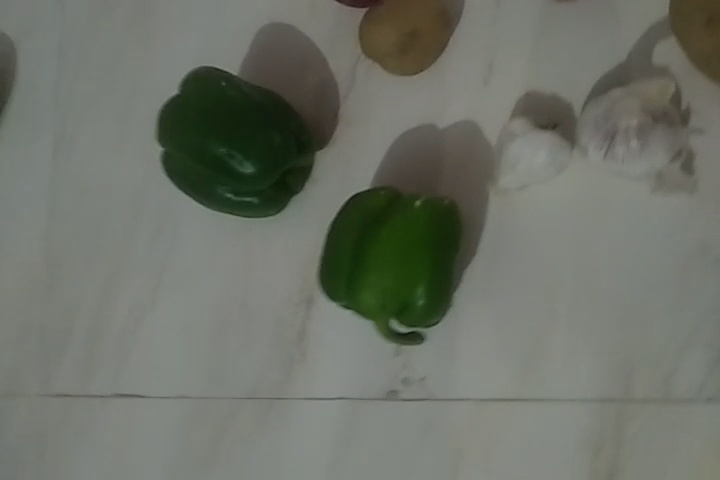capsicum: (152, 68, 307, 221), (326, 183, 457, 344)
garlic: (584, 83, 691, 185), (496, 119, 570, 187)
potato: (363, 1, 468, 75), (659, 3, 720, 80)
